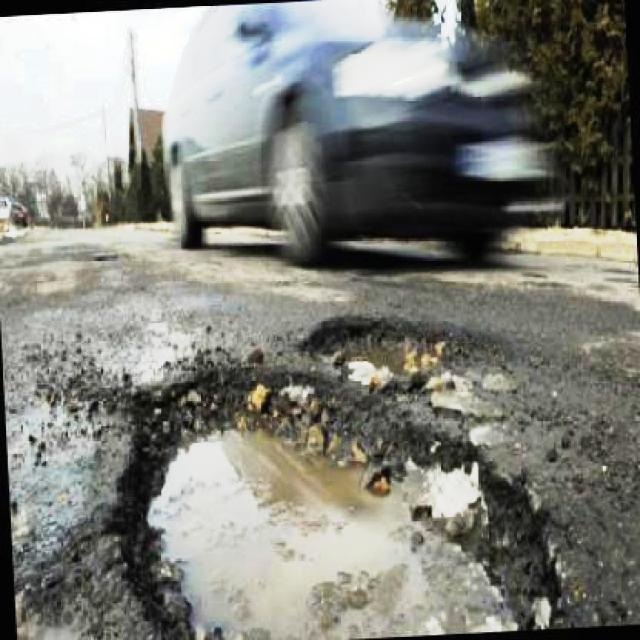pothole: (95, 347, 573, 640), (291, 308, 474, 389)
